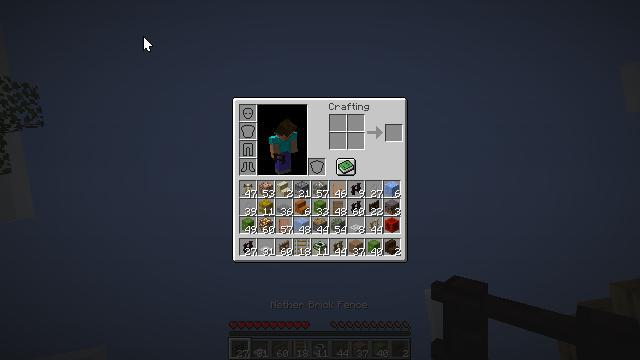cursor: (36, 143, 52, 153)
